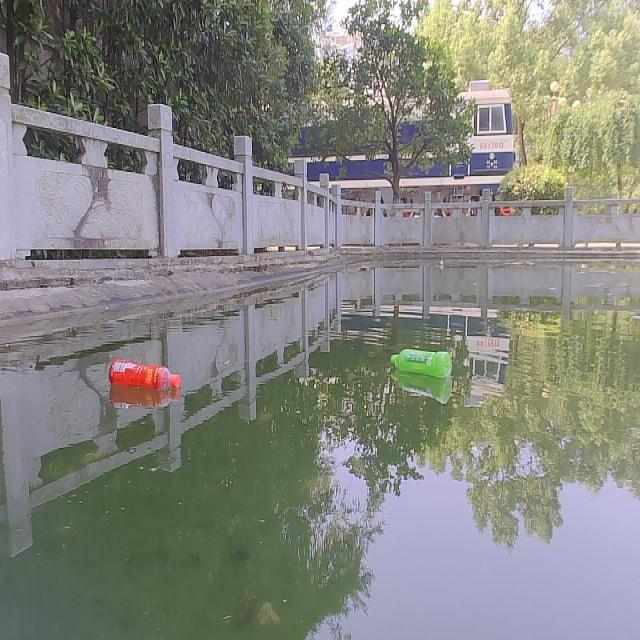Bottle: (106, 356, 181, 389), (389, 345, 451, 376)
